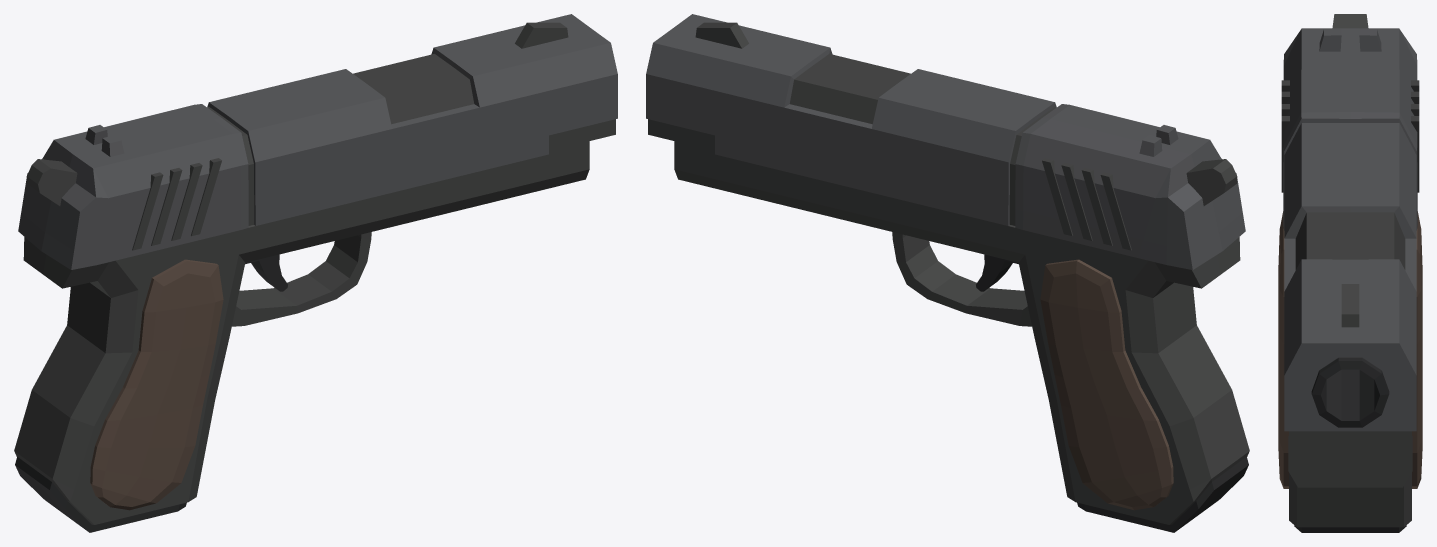
Rendered from Pistol_2.glb.
The picture shows the model from 3 angles, left to right: view 1: azimuth 30°, elevation 25°; view 2: azimuth 150°, elevation 25°; view 3: azimuth 270°, elevation 25°; orthographic projection. The views are drawn at different scales.
Visible parts, largest first — view 1: Pistol_2; view 2: Pistol_2; view 3: Pistol_2.
Part boxes in pixels (box(x1,y1,x2,y2)): Pistol_2: box(14, 14, 617, 532); Pistol_2: box(646, 14, 1249, 532); Pistol_2: box(1278, 14, 1422, 532).
Size of the model in its own units: 1.82 by 1.16 by 0.3232.
